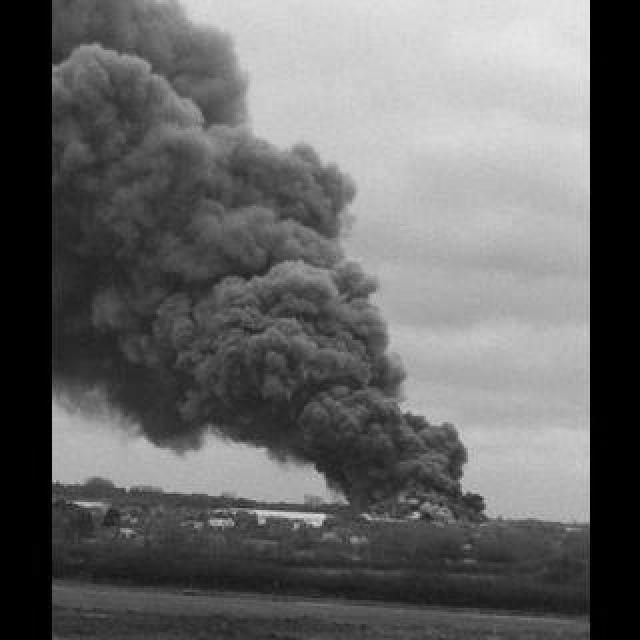smoke: (52, 2, 387, 429), (256, 334, 476, 504)
zfire: (406, 508, 420, 518)
